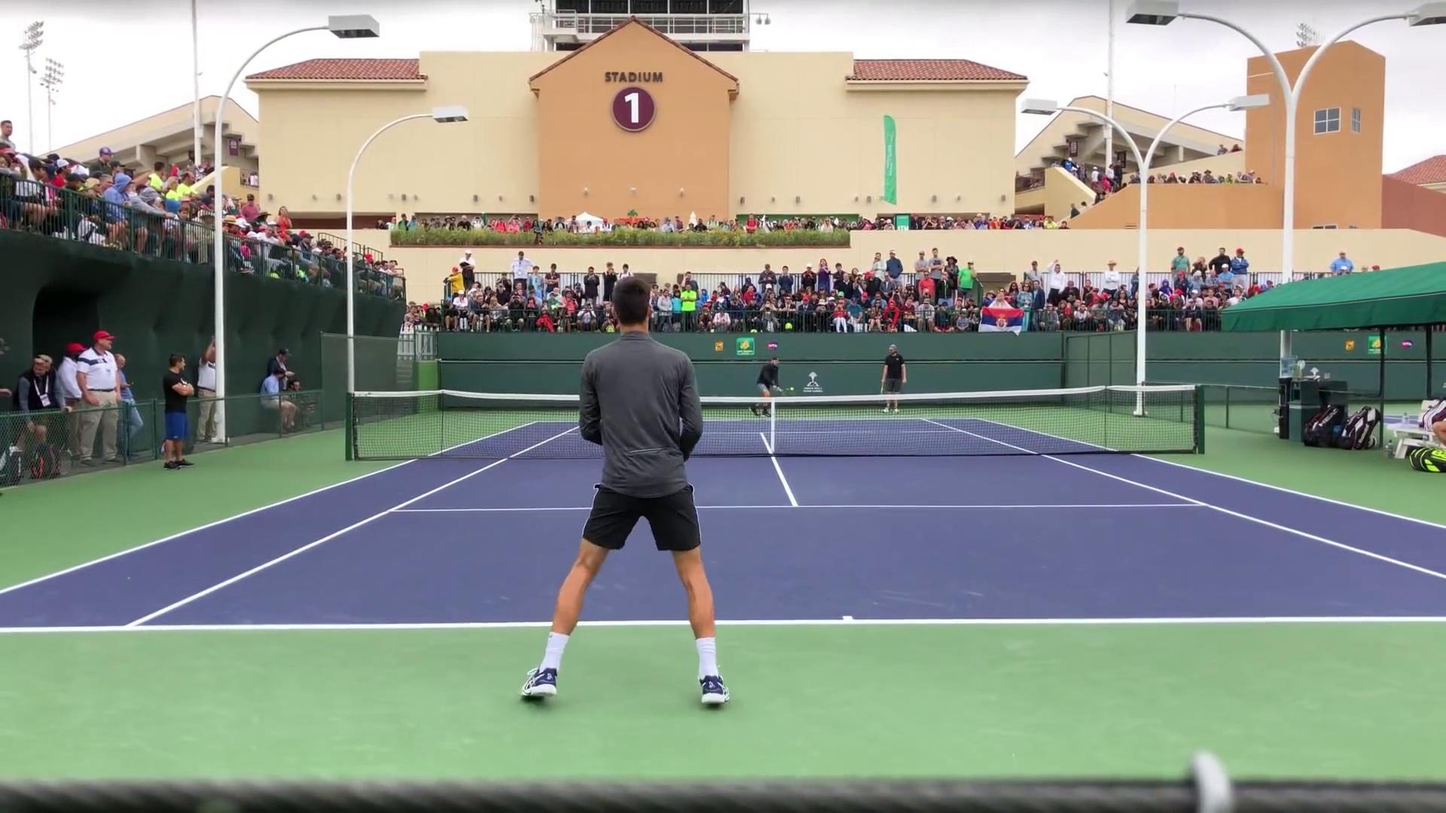ball: (387, 506, 398, 515), (789, 387, 795, 392)
